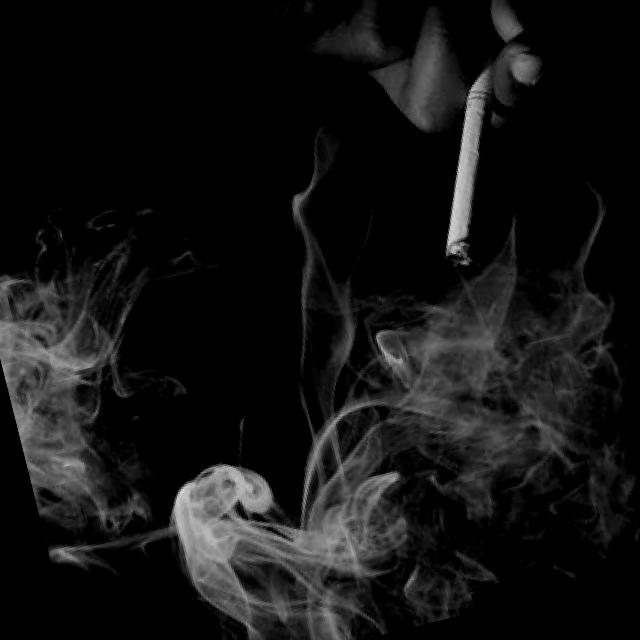cigarette: (398, 57, 538, 274)
